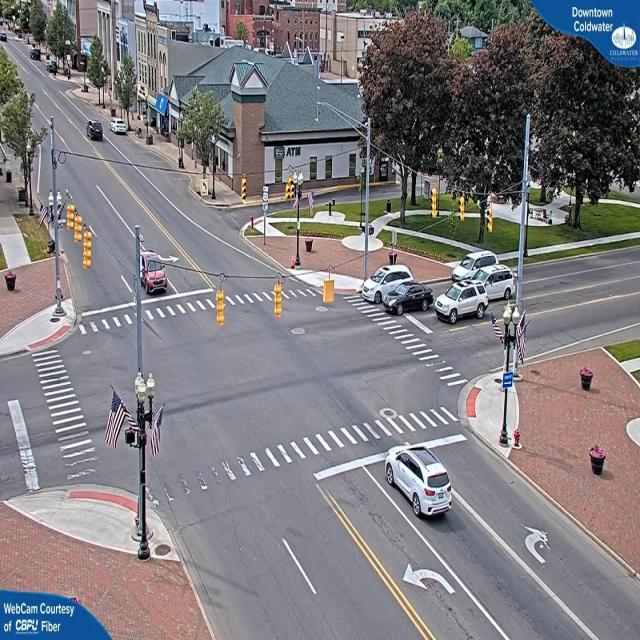car: (385, 444, 453, 518), (436, 281, 488, 325), (382, 284, 434, 313), (360, 266, 414, 292), (140, 252, 168, 296), (485, 264, 516, 300), (452, 250, 502, 269)
